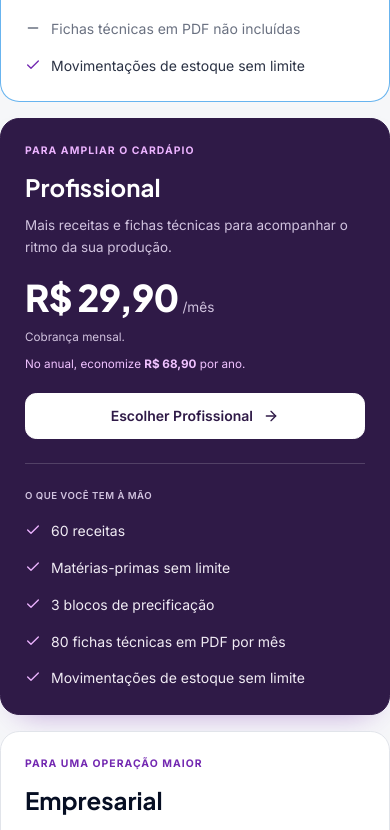
Test: plans selection › blocks all plan buttons while checkout is opening and recovers afterwards
(page scrolled)
Click the button "Escolher Profissional": point(195, 416) [25,393,365,439]
(page scrolled)
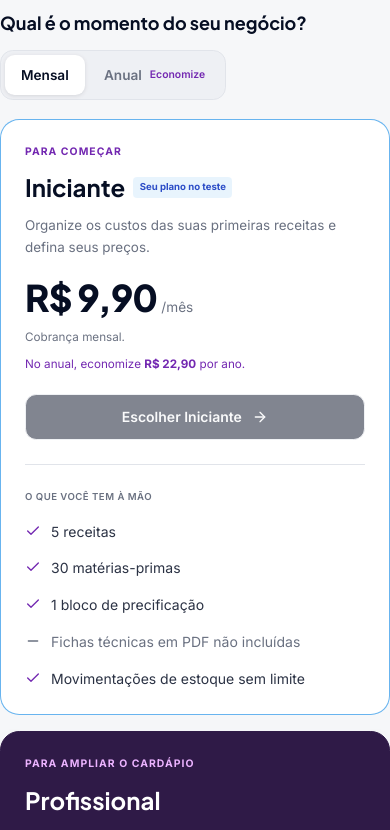
Expected: the button "Escolher Iniciante" is disabled
Click the button "Escolher Iniciante": point(195, 417) [25,394,365,440]
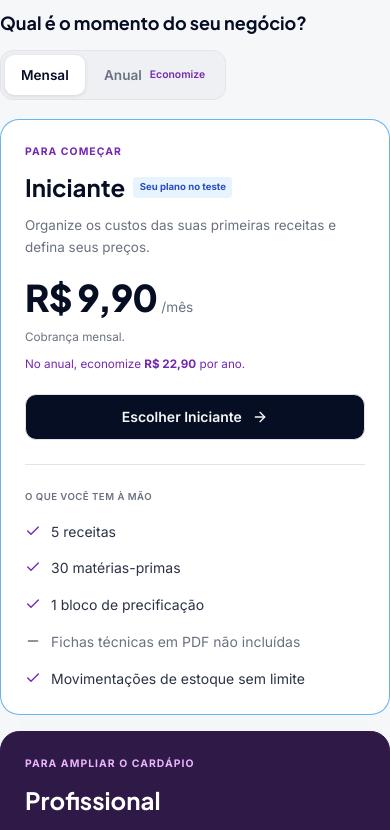
Expected: the button "Escolher Iniciante" is enabled, [25,394,365,440]
